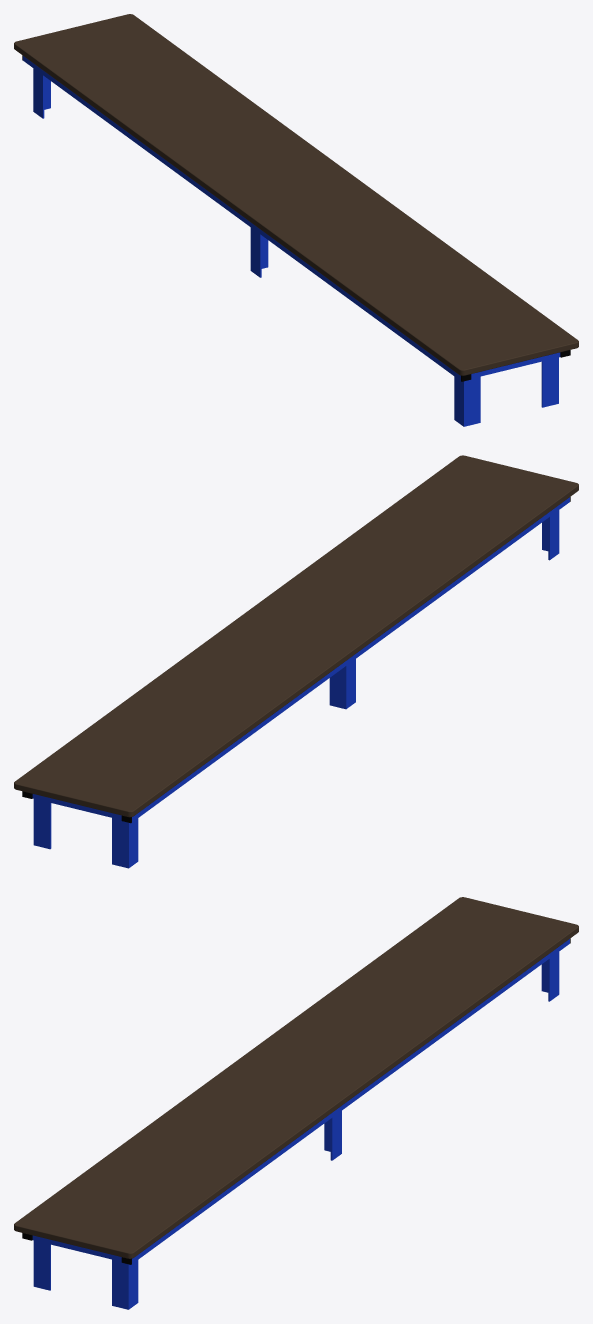
File: TNK-36.dae
3 renders of one model, top to bottom at view 1: azimuth 30°, elevation 25°; view 2: azimuth 150°, elevation 25°; view 3: azimuth 330°, elevation 25°, orthographic.
Visible parts, largest first — view 1: korichnivieelementy, sinieelementy; view 2: korichnivieelementy, sinieelementy; view 3: korichnivieelementy, sinieelementy.
Boxes of the visible parts, bbox=[...] form: korichnivieelementy: bbox=[14, 14, 578, 375]; sinieelementy: bbox=[23, 56, 560, 426]; korichnivieelementy: bbox=[14, 455, 578, 817]; sinieelementy: bbox=[32, 497, 569, 868]; korichnivieelementy: bbox=[14, 897, 578, 1258]; sinieelementy: bbox=[32, 939, 569, 1309].
Size of the model in its own units: 31.5 by 16.57 by 205.
